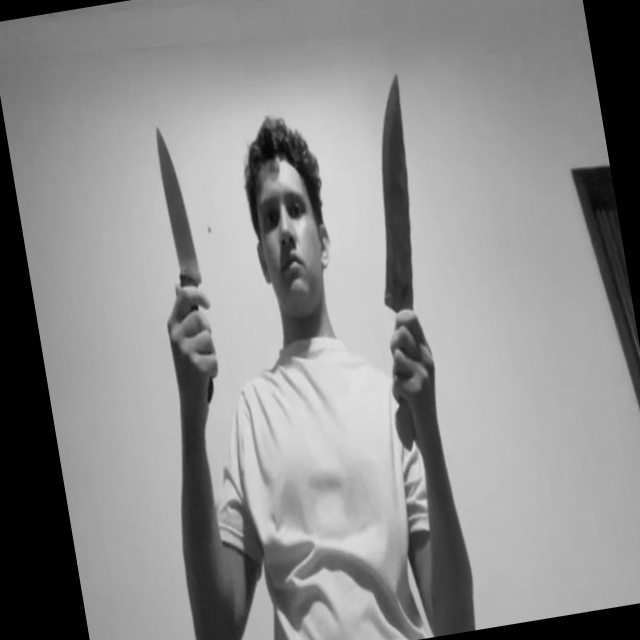Sharp-Object: (349, 74, 436, 308), (153, 123, 204, 284)
